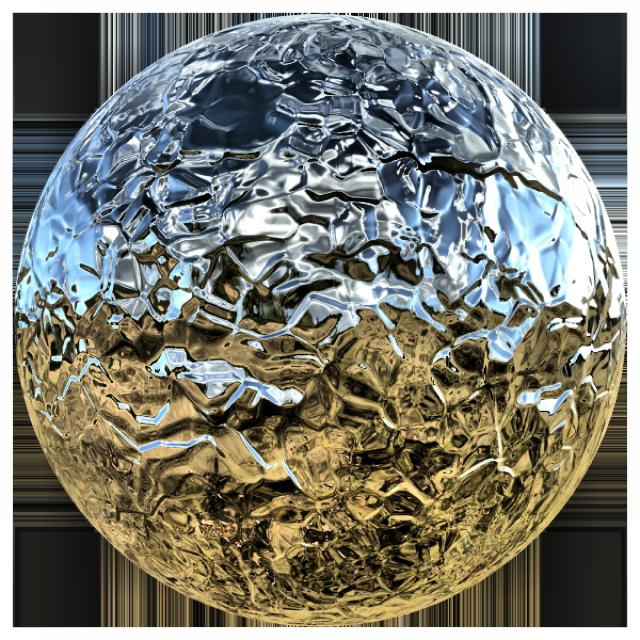Foil: (8, 12, 633, 629)
